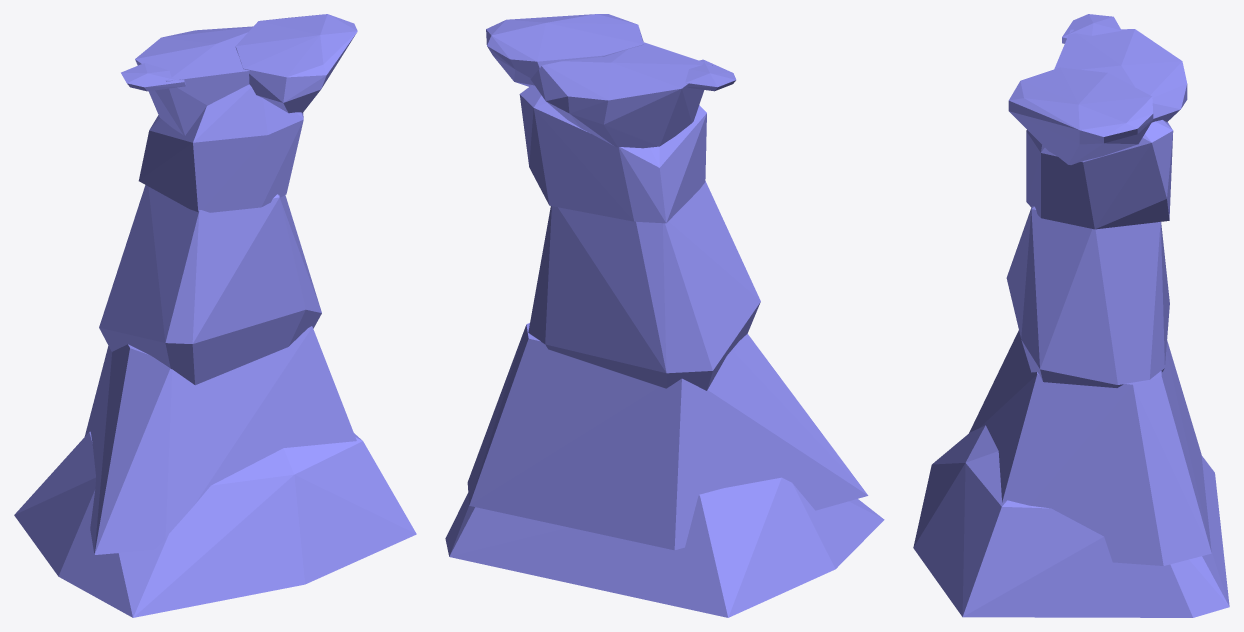
Rendered from Cliff_Spire_05_Taper_Collider_01.FBX.
The picture shows the model from 3 angles, left to right: view 1: azimuth 30°, elevation 25°; view 2: azimuth 150°, elevation 25°; view 3: azimuth 270°, elevation 25°; orthographic projection. The views are drawn at different scales.
Parts seen in each view (by area): view 1: COLLIDER3, COLLIDER4, COLLIDER5, COLLIDER6, COLLIDER1, COLLIDER2, COLLIDER7; view 2: COLLIDER4, COLLIDER5, COLLIDER3, COLLIDER6, COLLIDER2, COLLIDER1, COLLIDER7; view 3: COLLIDER4, COLLIDER3, COLLIDER5, COLLIDER6, COLLIDER1, COLLIDER2, COLLIDER7.
Part boxes in pixels (left/top/right/bottom): COLLIDER3: left=14, top=431, right=416, bottom=617; COLLIDER4: left=84, top=326, right=356, bottom=554; COLLIDER5: left=99, top=185, right=321, bottom=385; COLLIDER6: left=138, top=84, right=303, bottom=212; COLLIDER1: left=235, top=14, right=357, bottom=113; COLLIDER2: left=135, top=26, right=253, bottom=135; COLLIDER7: left=121, top=63, right=186, bottom=91; COLLIDER4: left=467, top=323, right=868, bottom=550; COLLIDER5: left=528, top=181, right=760, bottom=390; COLLIDER3: left=445, top=477, right=884, bottom=617; COLLIDER6: left=519, top=85, right=706, bottom=223; COLLIDER2: left=530, top=42, right=712, bottom=148; COLLIDER1: left=486, top=14, right=643, bottom=86; COLLIDER7: left=685, top=59, right=736, bottom=91; COLLIDER4: left=969, top=330, right=1211, bottom=565; COLLIDER3: left=913, top=425, right=1229, bottom=617; COLLIDER5: left=1006, top=206, right=1169, bottom=387; COLLIDER6: left=1026, top=120, right=1173, bottom=229; COLLIDER1: left=1008, top=67, right=1153, bottom=164; COLLIDER2: left=1054, top=29, right=1187, bottom=122; COLLIDER7: left=1062, top=14, right=1121, bottom=43.
Size of the model in its own units: 482 by 681 by 397.
